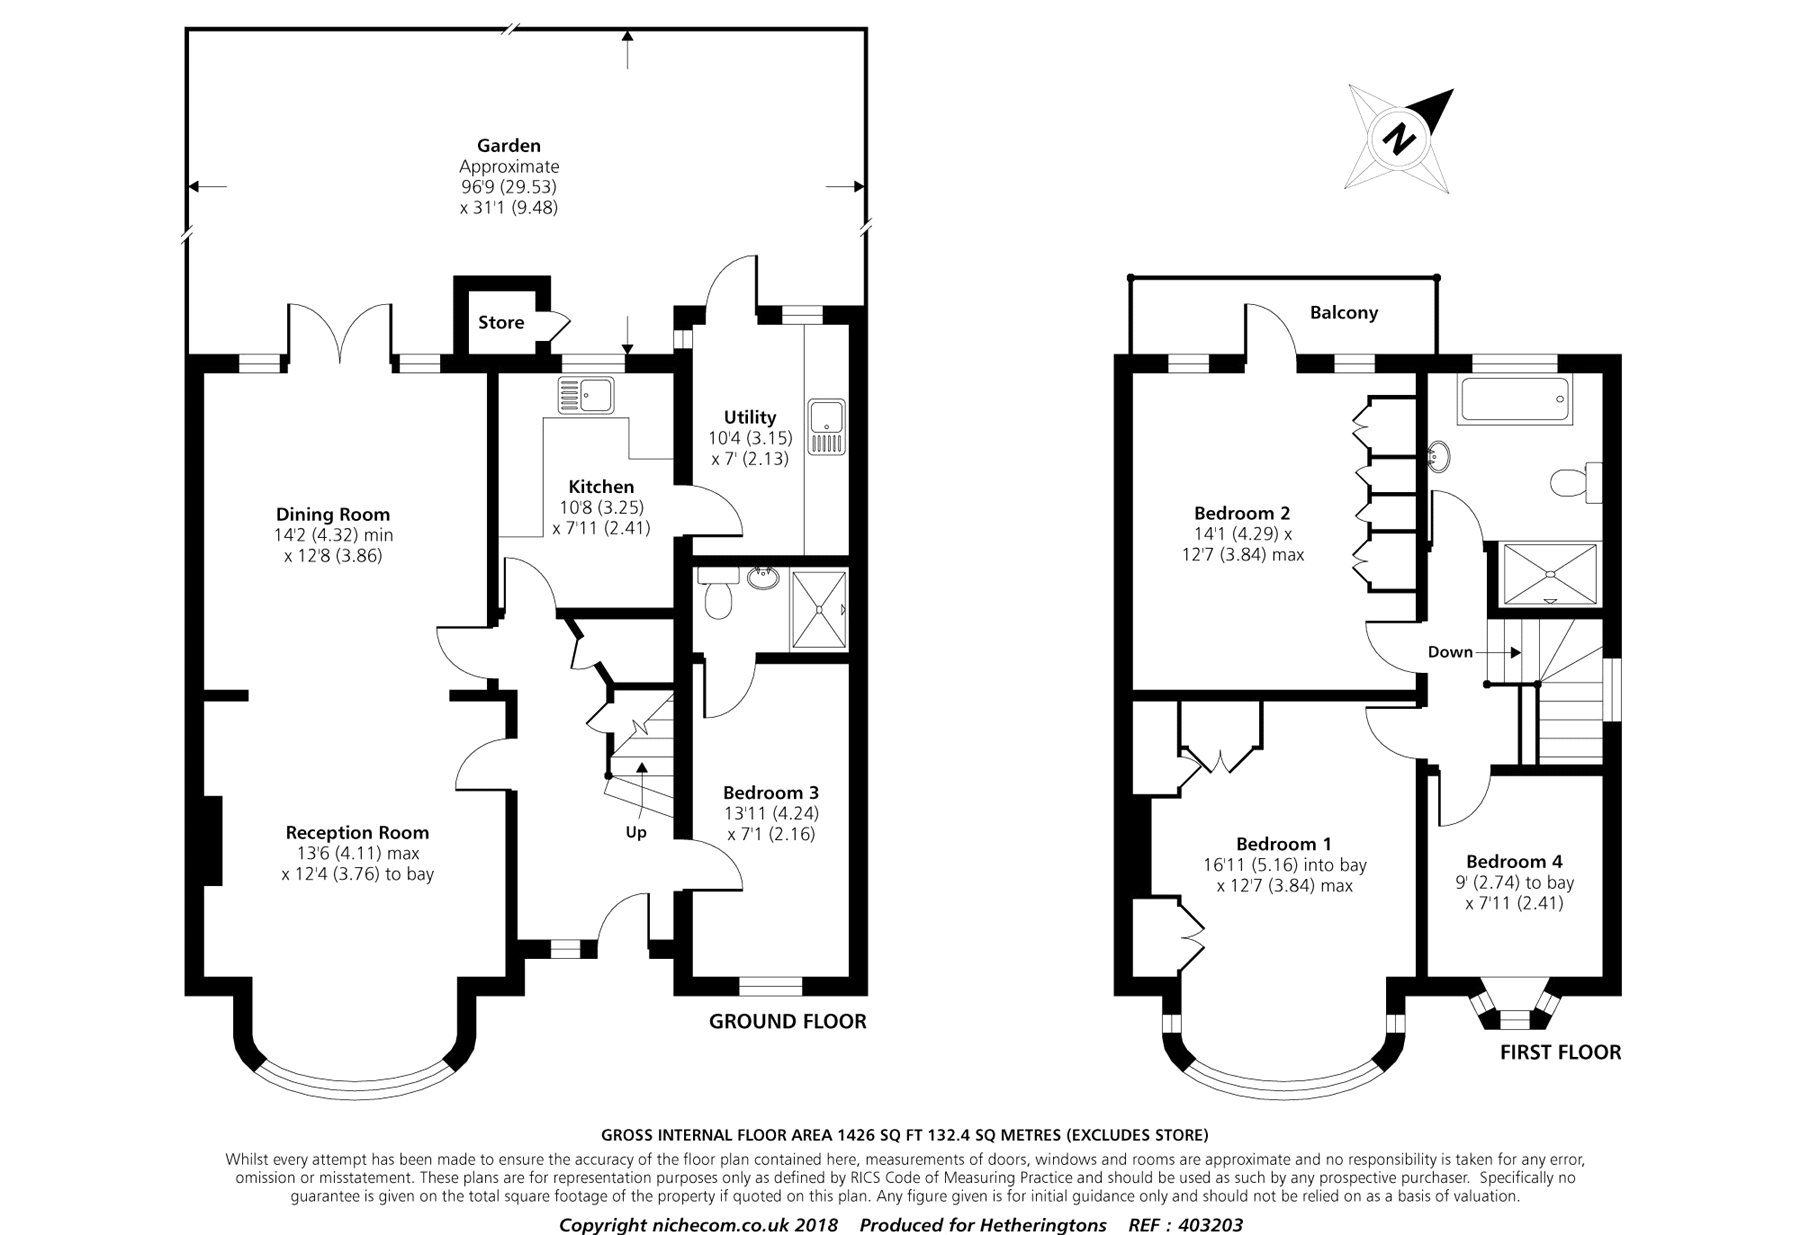door: (284, 295, 395, 350), (501, 553, 562, 606), (1428, 487, 1485, 542), (1353, 617, 1412, 670), (449, 734, 501, 795), (595, 888, 654, 940), (432, 622, 484, 681), (692, 841, 750, 893), (698, 481, 748, 540), (704, 252, 760, 304), (1433, 775, 1488, 827), (702, 663, 751, 721), (1241, 300, 1293, 351), (1358, 702, 1412, 752), (1171, 908, 1210, 966), (1200, 743, 1246, 775), (562, 635, 596, 673), (1342, 408, 1373, 446), (1340, 540, 1371, 579), (551, 306, 577, 342), (1340, 499, 1371, 527), (585, 698, 605, 737), (1345, 464, 1369, 487)
